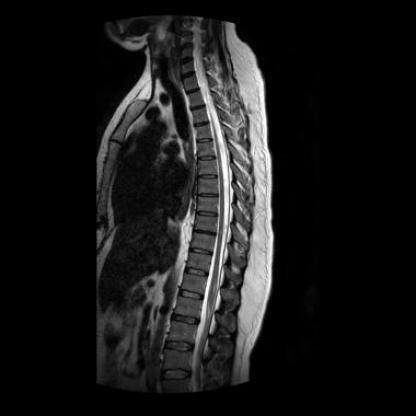Demyelinating Plaquesrotation: (196, 210, 219, 222), (197, 137, 217, 147)
Hemangiomatarotation: (187, 253, 213, 272), (195, 124, 215, 138)
